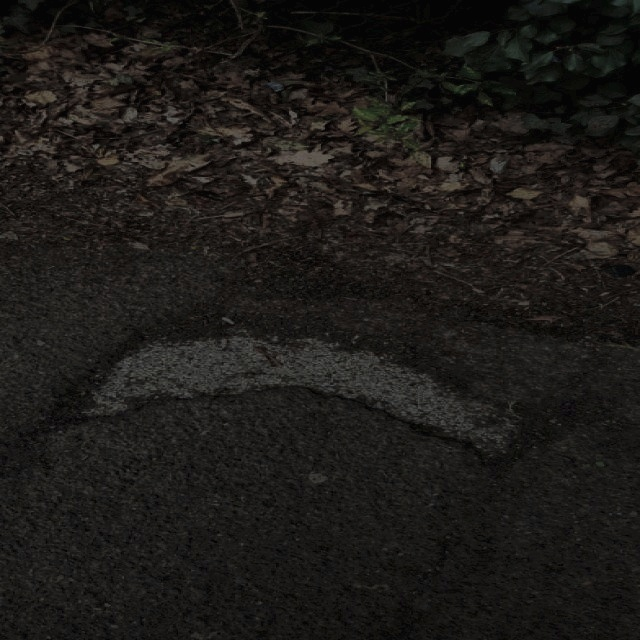Pothole: (31, 312, 537, 462)
